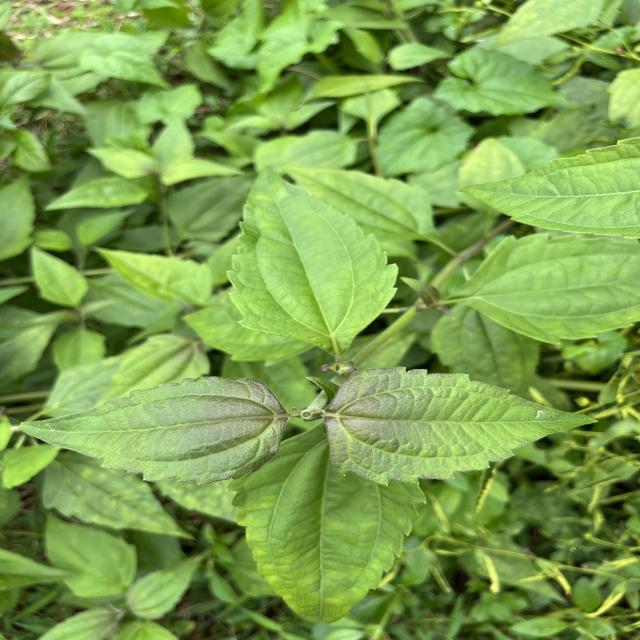Chromolaena odorata: (320, 360, 602, 490), (15, 371, 292, 488)
